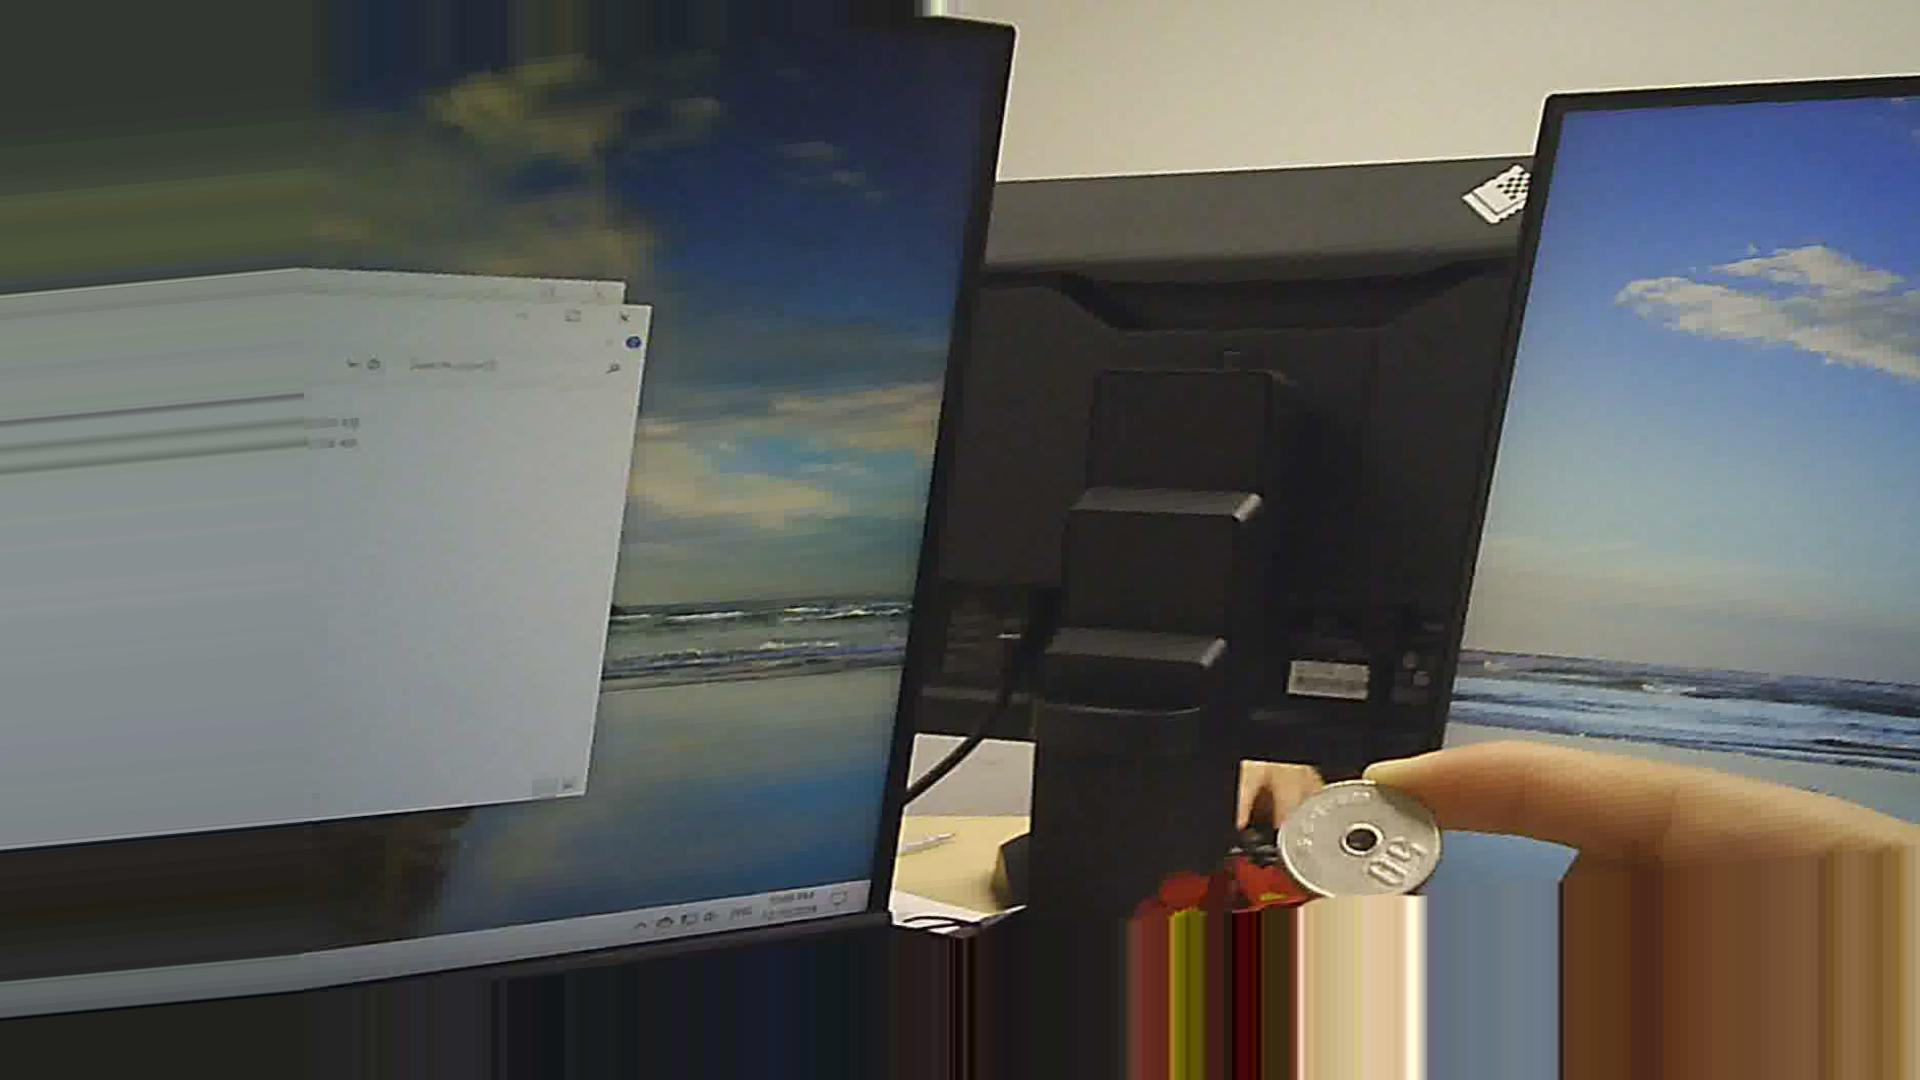50 Yen: (1273, 766, 1453, 910)
